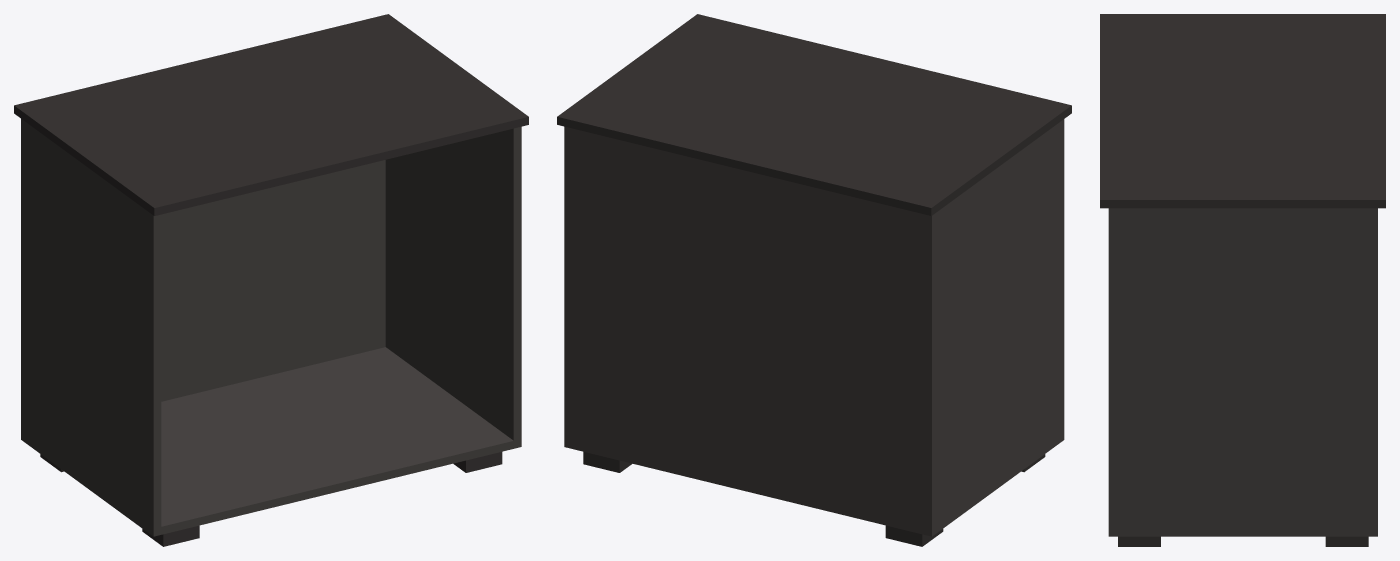
The model's file is Cupboard_14_01.fbx.
3 renders of one model, left to right at view 1: azimuth 30°, elevation 25°; view 2: azimuth 150°, elevation 25°; view 3: azimuth 270°, elevation 25°, orthographic.
Parts seen in each view (by area): view 1: Cupboard_14_01; view 2: Cupboard_14_01; view 3: Cupboard_14_01.
Boxes of the visible parts, left/top/right/bottom form: Cupboard_14_01: left=14, top=14, right=528, bottom=546; Cupboard_14_01: left=557, top=14, right=1071, bottom=546; Cupboard_14_01: left=1100, top=14, right=1385, bottom=546.
Bounding box in the file's own units: 80.51 × 71.81 × 52.29.
